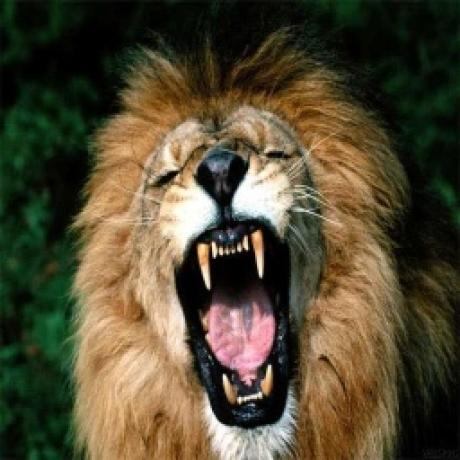Lion: (69, 19, 456, 460)
